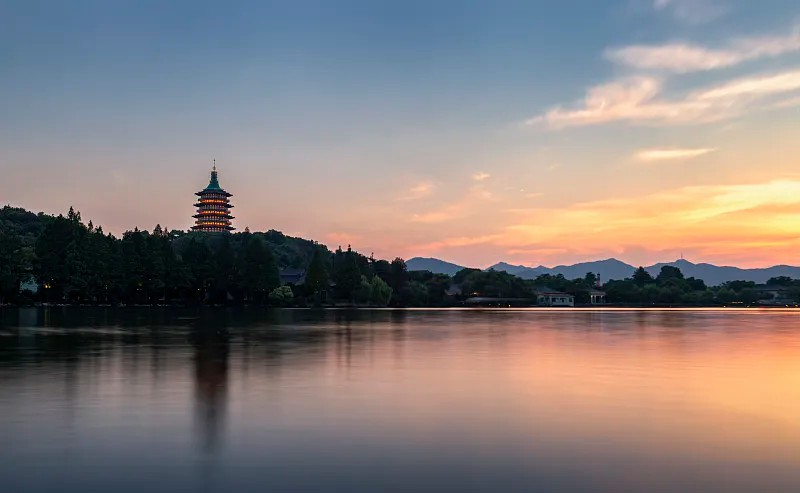Leifeng: (187, 155, 238, 236)
